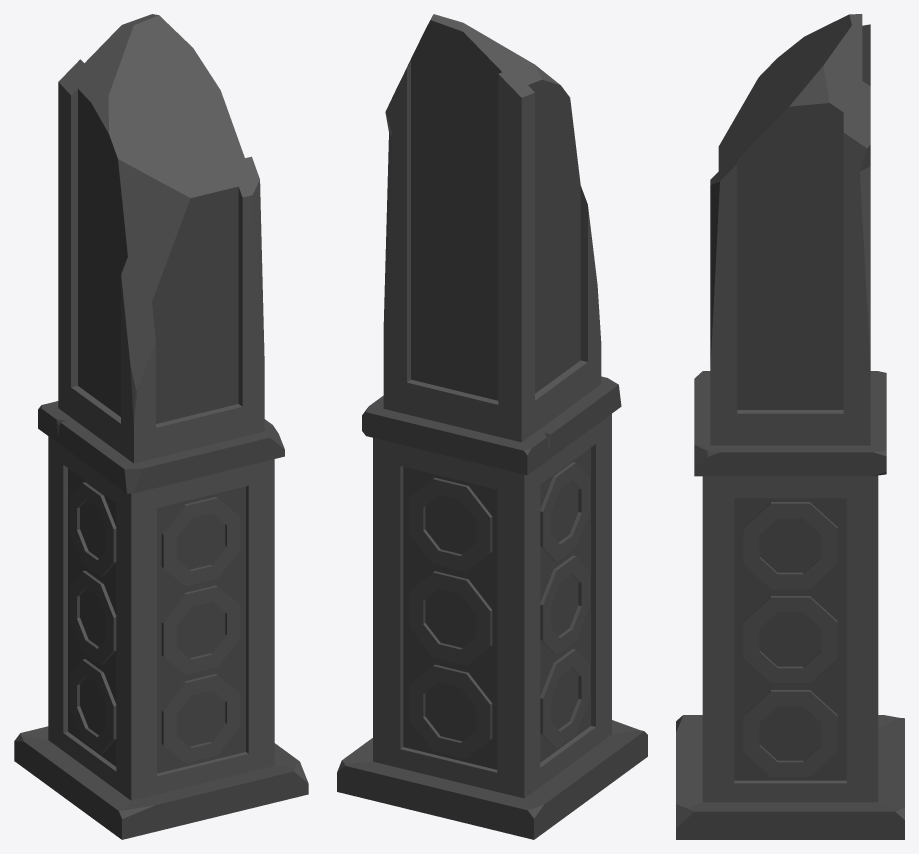
The model's file is Ruins_02.fbx.
The picture shows the model from 3 angles, left to right: view 1: azimuth 30°, elevation 25°; view 2: azimuth 150°, elevation 25°; view 3: azimuth 270°, elevation 25°; orthographic projection. The views are drawn at different scales.
Visible parts, largest first — view 1: Ruins_02_LOD0; view 2: Ruins_02_LOD0; view 3: Ruins_02_LOD0.
Boxes of the visible parts, x1,y1,x2,y2 form: Ruins_02_LOD0: (14,14,308,839); Ruins_02_LOD0: (337,14,647,839); Ruins_02_LOD0: (676,14,904,839).
Size of what is drawn, in the model's own units: 104 by 390 by 104.
